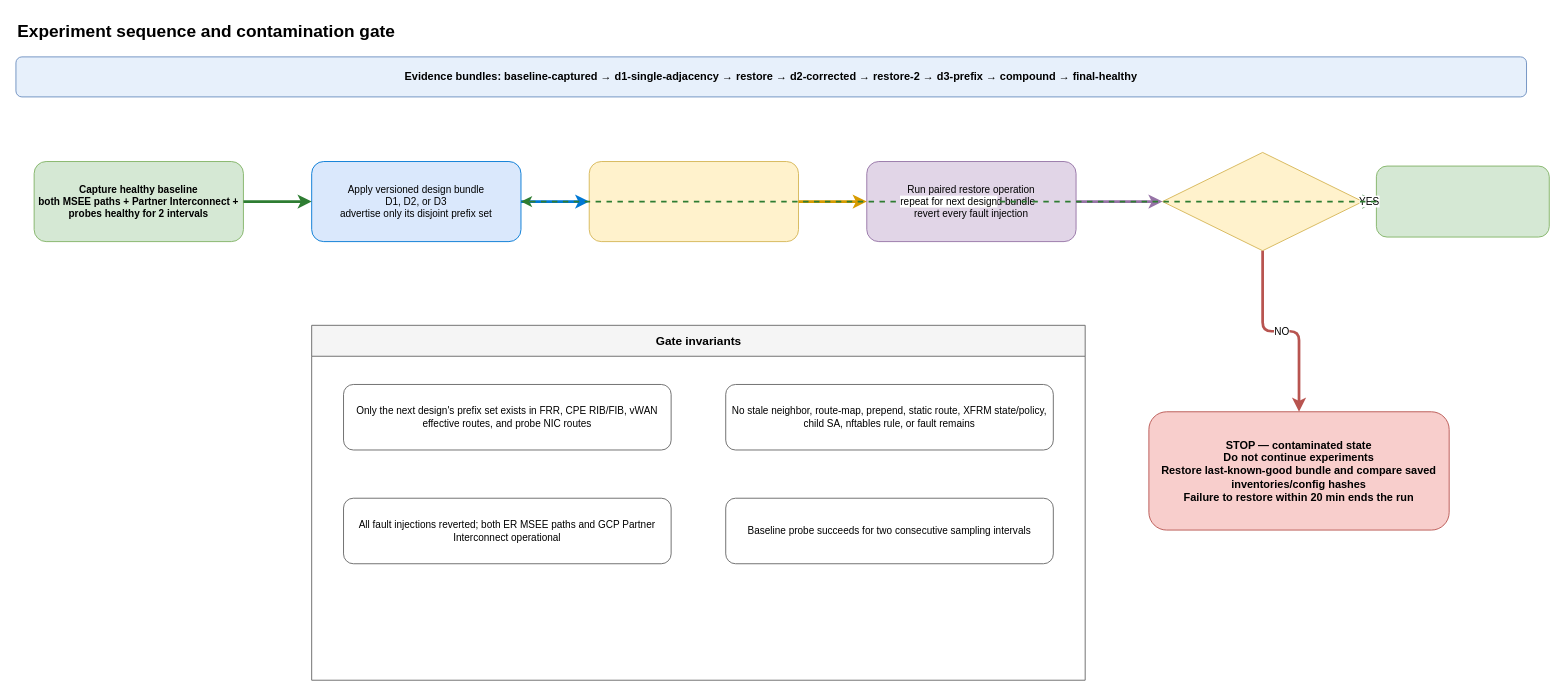
Image size: 1565x696. Some labels were removed from this diagram. The shapes that lost their labels are listed below. From the top down, each one's centre as x and y in pixels, then its label:
the point at 693,201: Run experiment + paired fault capture before / during / after evidence
the point at 1262,201: Contamination gate passes?
the point at 1462,201: Advance to next design or restore/capture final D2 healthy state
